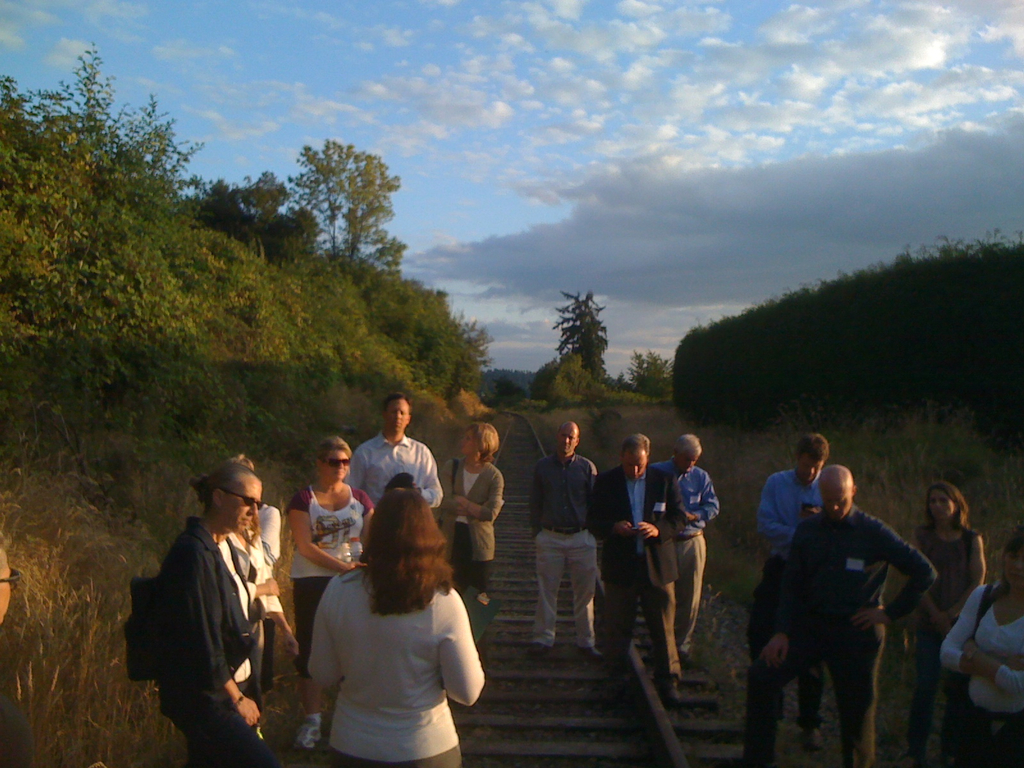Tree: (215, 139, 488, 390), (672, 234, 1023, 401), (535, 289, 669, 399)
